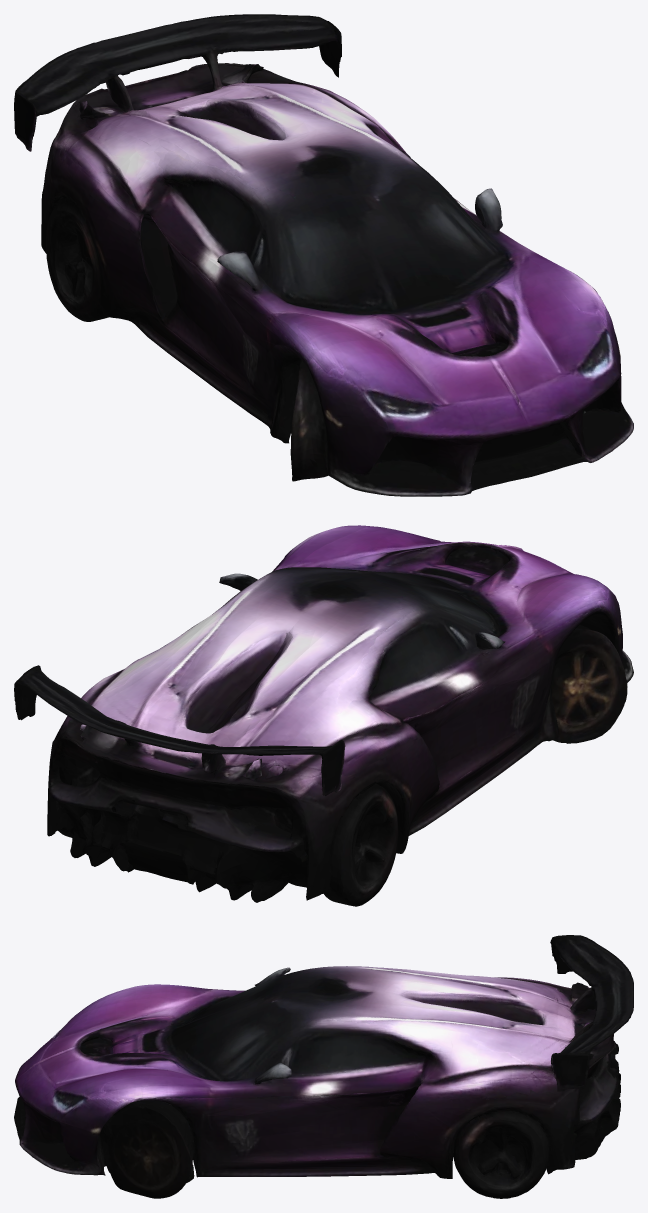
Rendered from wheels-supercar.glb.
3 views of the same model, one above another, from view 1: azimuth 30°, elevation 25°; view 2: azimuth 150°, elevation 25°; view 3: azimuth 270°, elevation 25° (orthographic). The views are drawn at different scales.
Parts seen in each view (by area): view 1: geometry_0; view 2: geometry_0; view 3: geometry_0.
Part boxes in pixels (left/top/right/bottom): geometry_0: left=14, top=14, right=633, bottom=496; geometry_0: left=14, top=525, right=633, bottom=906; geometry_0: left=14, top=935, right=633, bottom=1198.
Size of the model in its own units: 0.4871 by 0.276 by 0.9988.
1 material, 1 textured.
